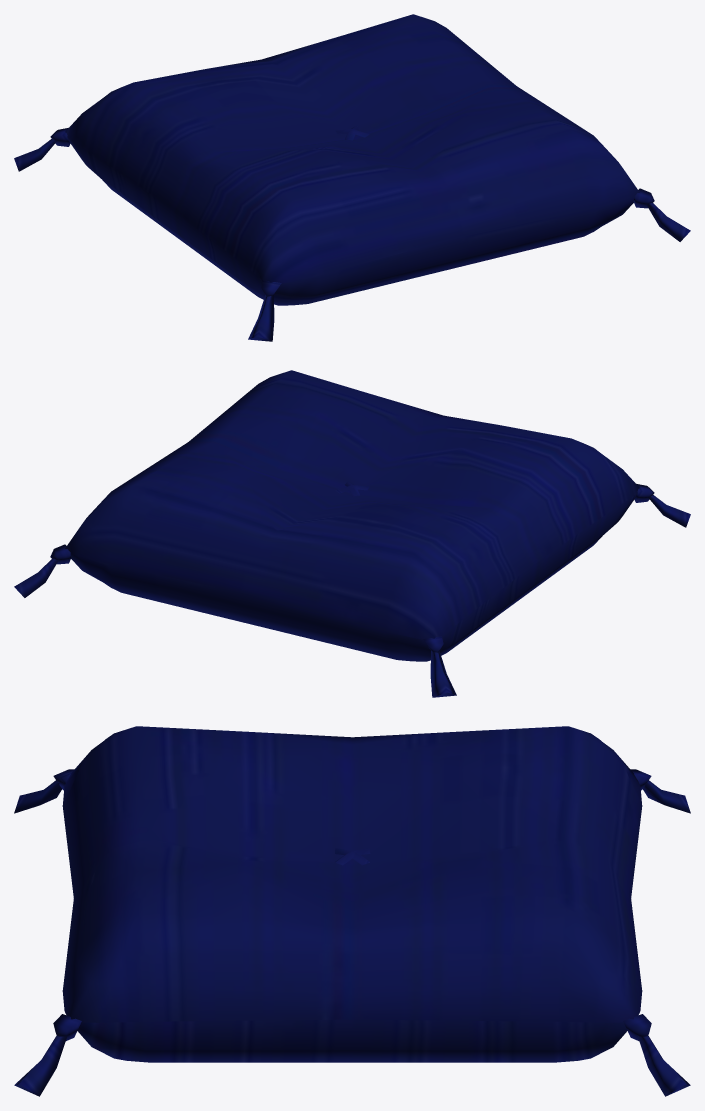
The picture shows the model from 3 angles, top to bottom: view 1: azimuth 30°, elevation 25°; view 2: azimuth 150°, elevation 25°; view 3: azimuth 270°, elevation 25°; orthographic projection. The views are drawn at different scales.
Size of the model in its own units: 9.35 by 2.01 by 9.16.
Materials: 1 (1 with a texture image).
